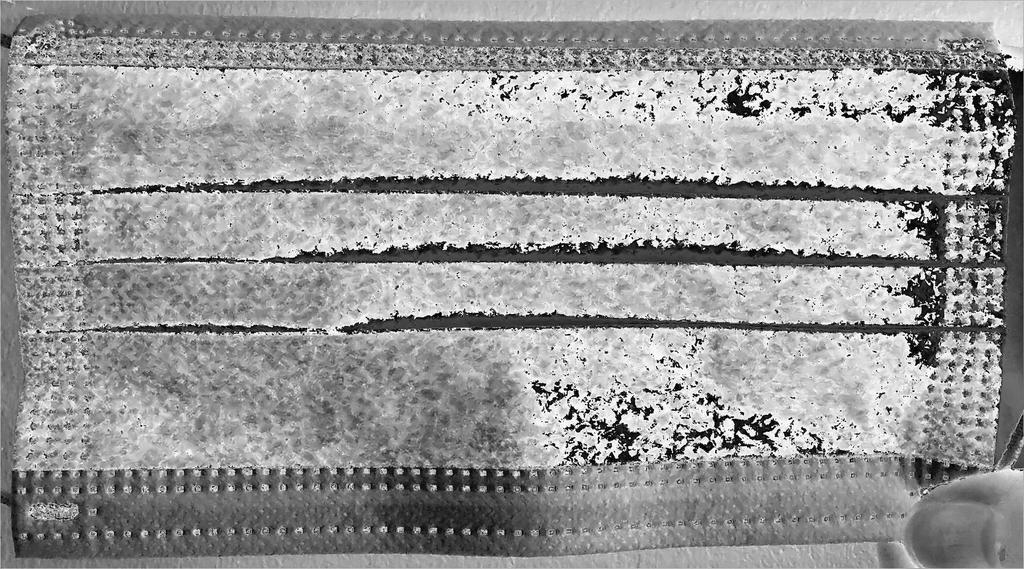High GSM: (480, 64, 990, 454)
